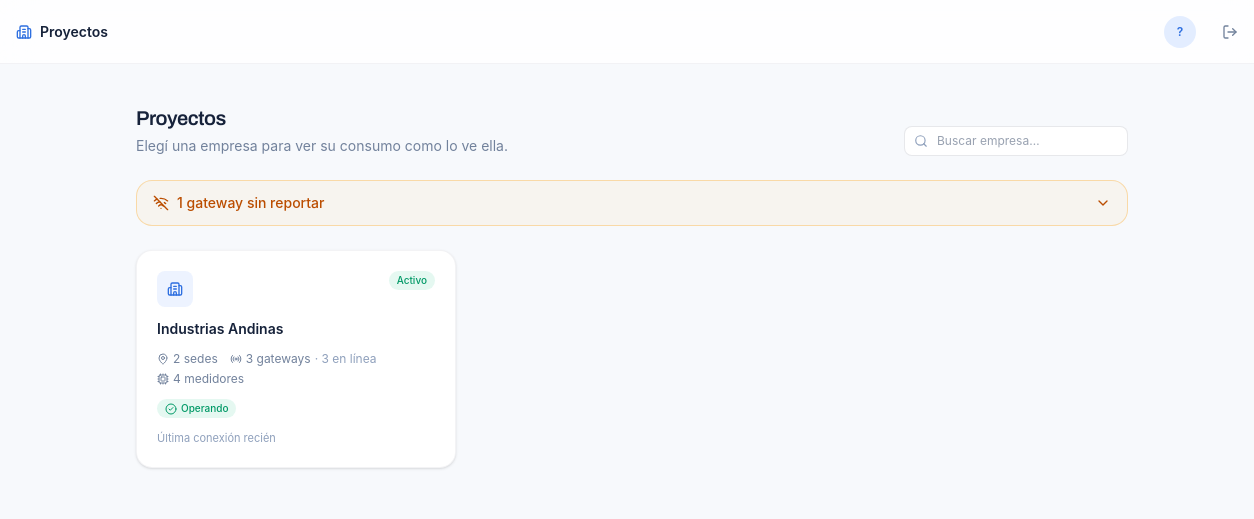
Scenario: los gateways caídos de toda la flota › distingue "nunca reportó" de "hace mucho"
Click the button "1 gateway sin reportar" at {"x": 251, "y": 202}, box top-left (137, 181), bottom-right (1127, 225)
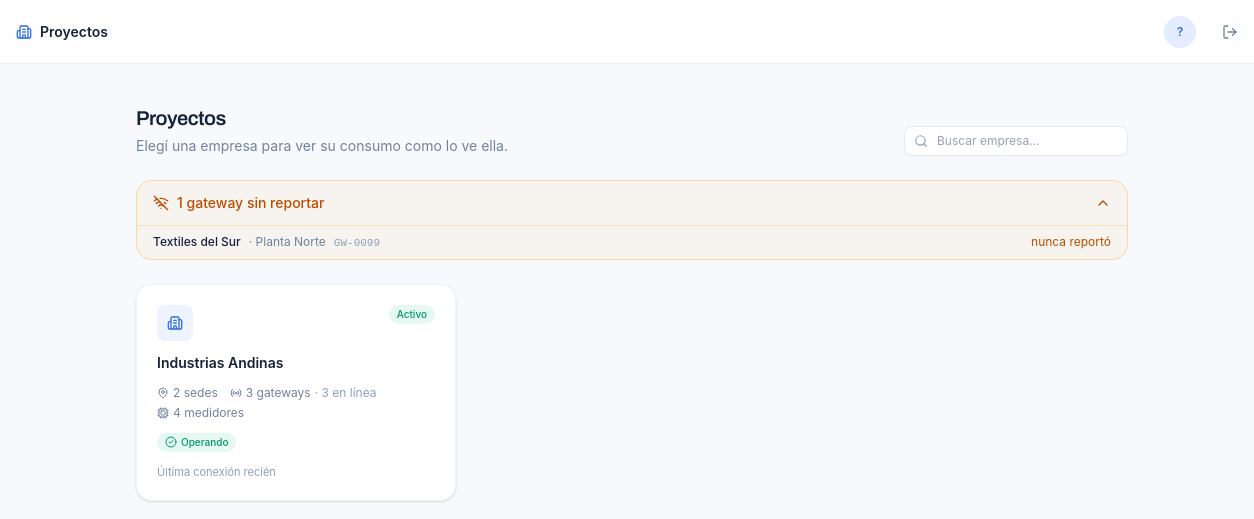
Check: the text "nunca reportó" is shown, box top-left (1031, 234), bottom-right (1111, 250)
